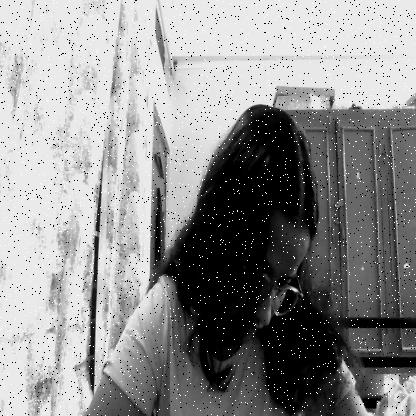Distracted: (229, 195, 312, 344)
